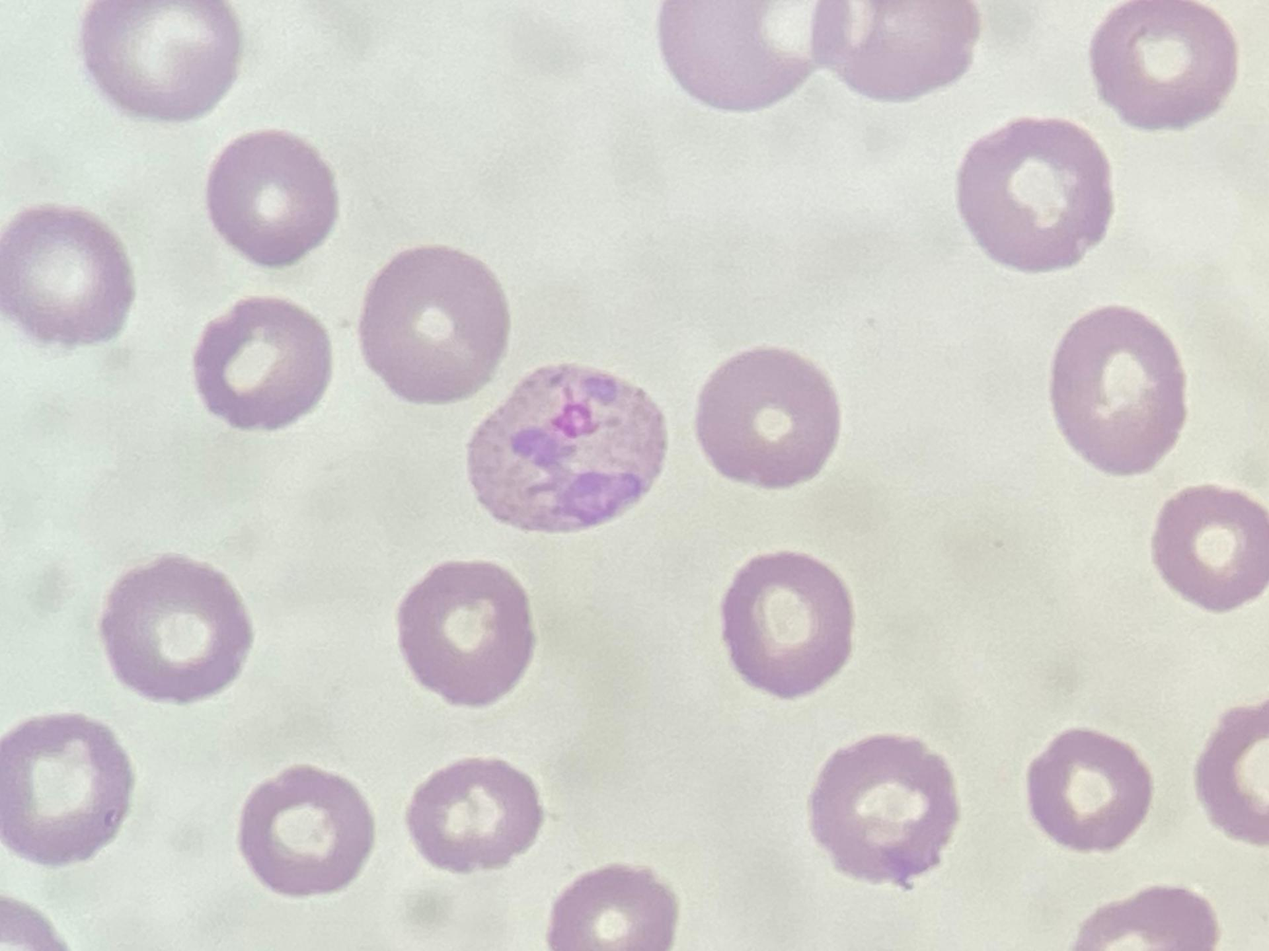Infected: (601, 418, 804, 582)
Uninfected: (760, 542, 908, 705), (159, 678, 312, 834), (84, 476, 219, 645), (311, 65, 460, 216), (1018, 248, 1169, 397), (430, 460, 571, 604), (1134, 86, 1269, 234), (31, 818, 180, 951), (734, 245, 870, 389), (1031, 828, 1190, 951), (416, 251, 547, 399), (1135, 605, 1269, 748), (448, 836, 611, 951), (935, 524, 1075, 653), (892, 55, 1032, 184), (291, 848, 456, 951), (935, 686, 1060, 820), (114, 99, 246, 224), (725, 76, 862, 196), (0, 339, 118, 465), (588, 0, 720, 85)
